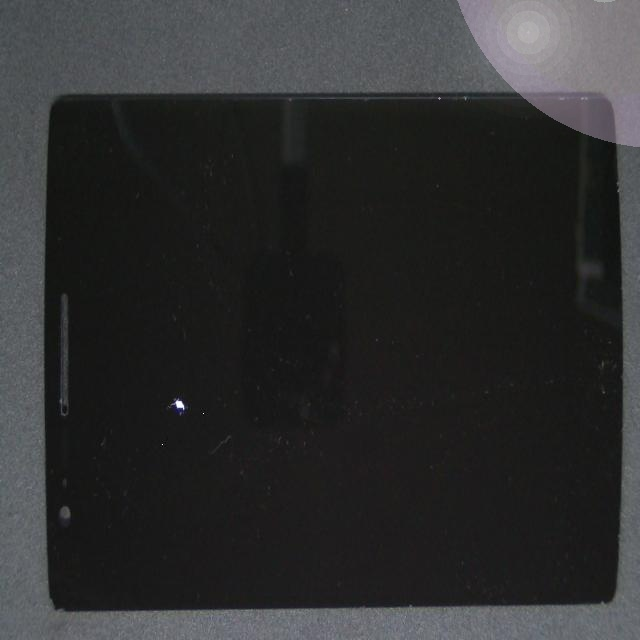stain: (74, 172, 245, 626)
